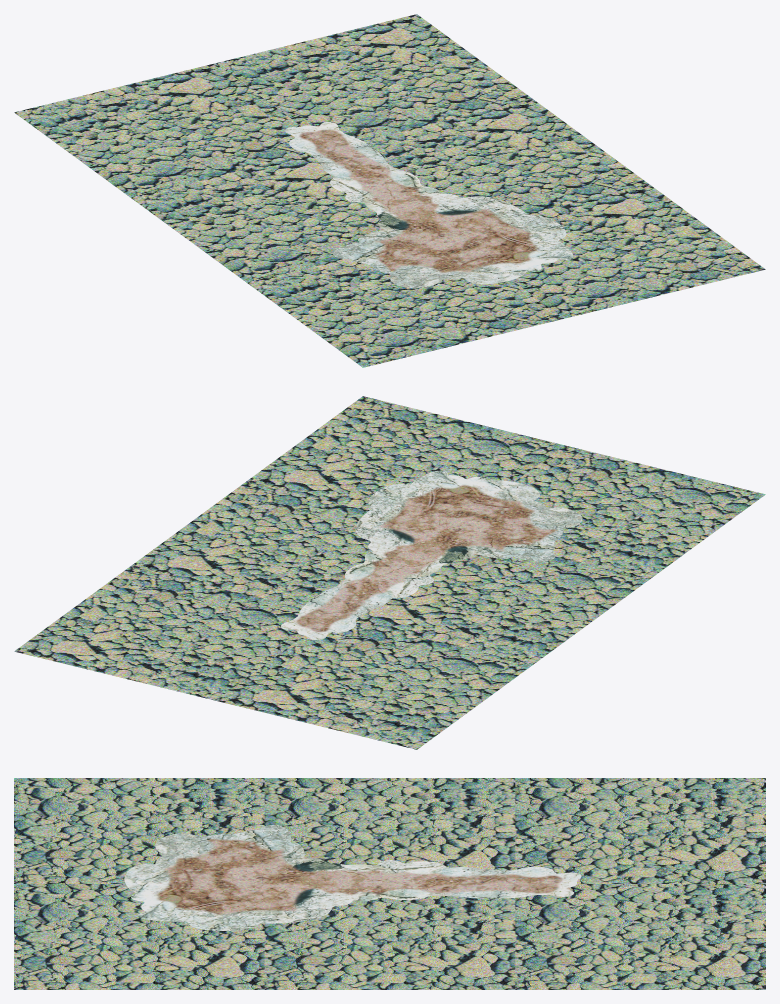
The model's file is Ground.glb.
3 views of the same model, one above another, from view 1: azimuth 30°, elevation 25°; view 2: azimuth 150°, elevation 25°; view 3: azimuth 270°, elevation 25° (orthographic). The views are drawn at different scales.
Parts seen in each view (by area): view 1: Plane.001, Plane, Plane.006, Plane.005, Plane.004, Plane.002, Plane.003; view 2: Plane.001, Plane, Plane.006, Plane.002, Plane.005, Plane.003, Plane.004; view 3: Plane, Plane.001, Plane.006, Plane.003, Plane.005, Plane.004, Plane.002.
Boxes of the visible parts, x1,y1,x2,y2 form: Plane.001: (14,63,309,197); Plane: (216,14,532,140); Plane.006: (285,122,573,287); Plane.005: (512,184,765,318); Plane.004: (247,259,563,367); Plane.002: (130,154,381,282); Plane.003: (363,99,649,213); Plane.001: (216,621,532,749); Plane: (14,566,303,700); Plane.006: (281,470,582,639); Plane.002: (355,555,649,664); Plane.005: (247,396,563,510); Plane.003: (130,481,372,608); Plane.004: (515,445,765,579); Plane: (515,884,765,989); Plane.001: (515,778,765,883); Plane.006: (124,825,581,930); Plane.003: (264,896,515,989); Plane.005: (14,884,264,989); Plane.004: (14,778,264,883); Plane.002: (264,778,515,870).
Bounding box in the file's own units: 4 × 0.012 × 6.
Materials: 7 (7 with a texture image).
